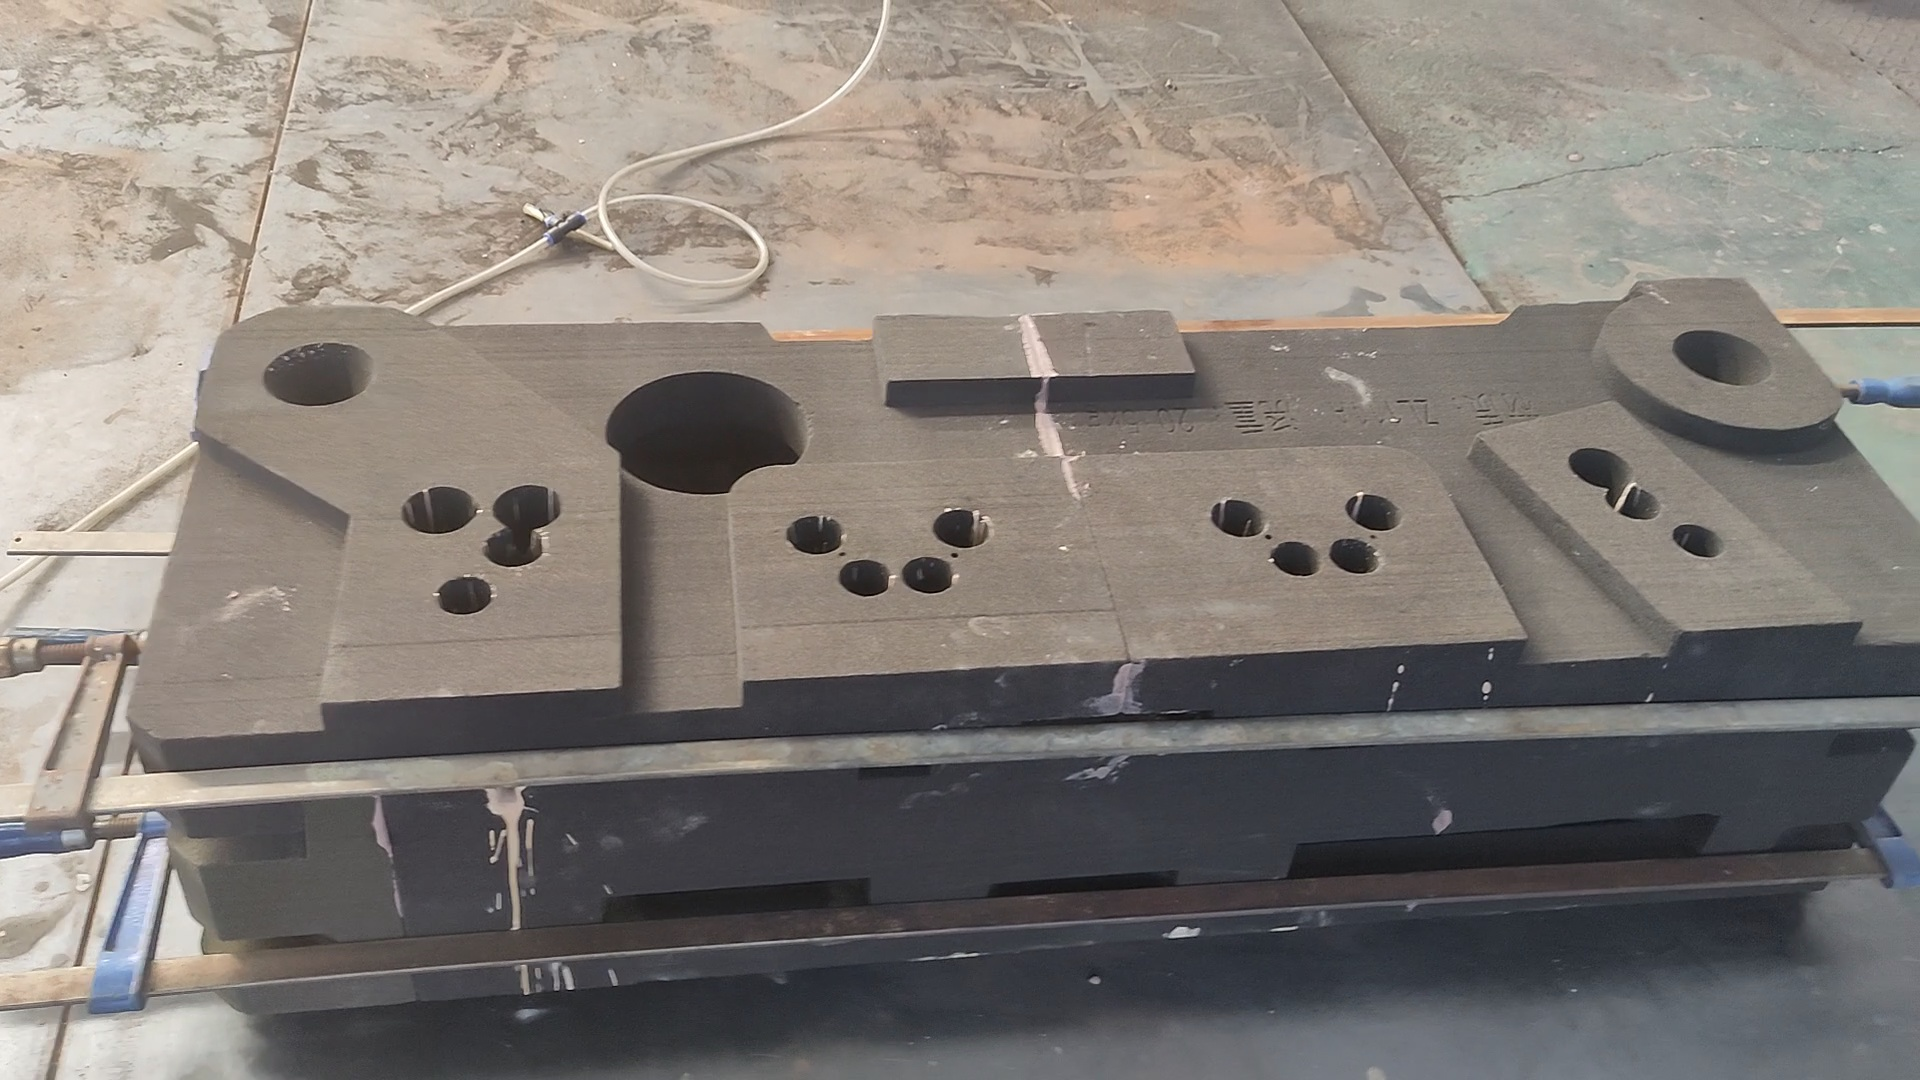pouring hole: (262, 342, 375, 406), (1673, 328, 1774, 386)
